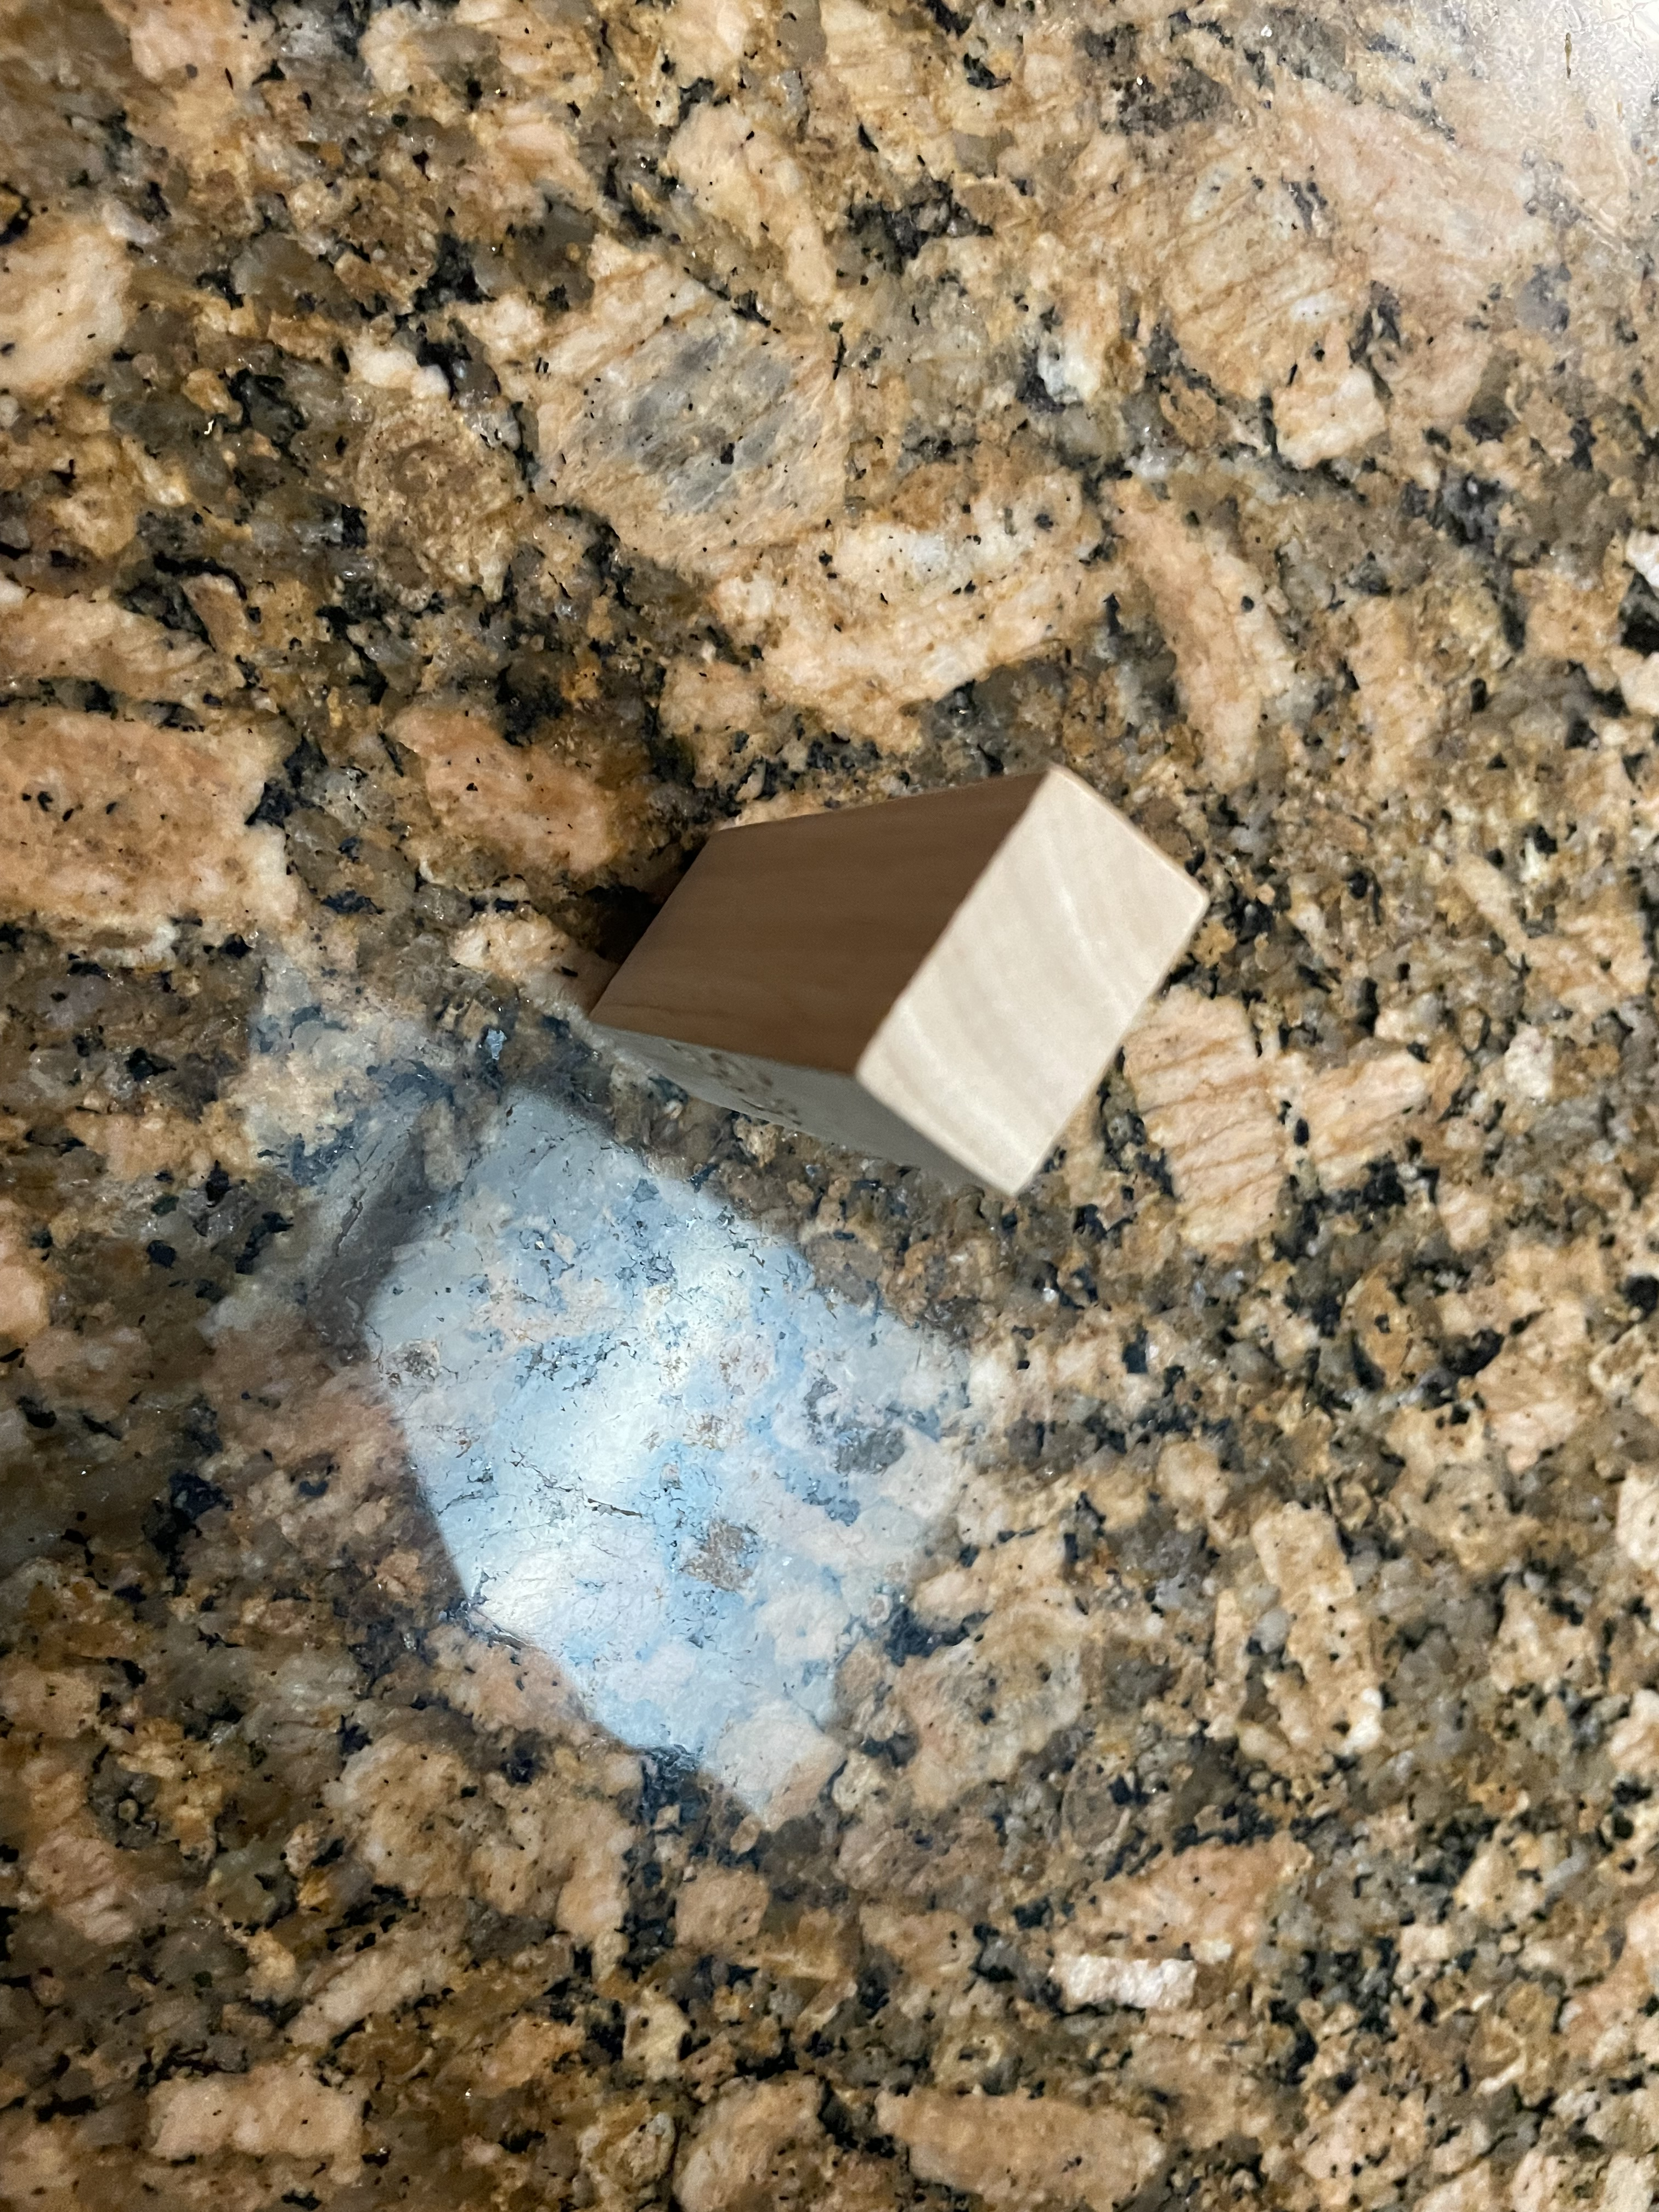jenga: (594, 780, 1243, 1200)
